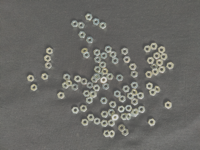nut: (167, 62, 175, 70), (165, 101, 173, 109), (148, 119, 156, 127), (158, 46, 166, 54), (144, 45, 152, 53), (137, 92, 145, 100), (138, 106, 146, 114), (118, 125, 126, 133), (109, 101, 117, 109), (108, 109, 116, 117), (100, 97, 108, 105), (93, 73, 101, 81), (80, 105, 88, 113), (74, 75, 82, 83), (57, 92, 65, 100), (46, 47, 54, 55), (161, 53, 168, 61), (157, 59, 164, 67), (159, 66, 166, 74), (154, 52, 161, 60), (147, 57, 155, 64), (147, 82, 154, 90), (121, 48, 129, 55), (131, 71, 139, 78), (131, 82, 139, 89), (132, 109, 140, 116), (132, 98, 139, 106), (131, 89, 138, 97), (122, 129, 129, 137), (119, 95, 126, 103), (116, 75, 124, 82), (112, 57, 119, 65), (108, 119, 115, 127), (109, 130, 116, 138), (101, 120, 108, 128), (101, 111, 109, 118), (87, 114, 95, 121), (82, 119, 89, 127), (103, 83, 110, 91), (101, 52, 108, 60), (93, 18, 100, 26), (86, 13, 93, 21), (86, 37, 94, 44), (100, 61, 107, 69), (101, 68, 109, 75), (94, 66, 102, 73), (89, 91, 97, 98), (65, 80, 73, 87), (63, 74, 71, 81), (44, 55, 52, 62), (45, 62, 53, 69), (41, 73, 49, 80), (27, 75, 35, 82), (31, 84, 38, 92), (151, 43, 158, 50), (151, 64, 158, 71), (146, 71, 153, 78), (154, 86, 161, 93), (150, 89, 157, 96), (124, 56, 131, 63), (131, 111, 138, 118), (128, 93, 135, 100), (126, 105, 133, 112), (118, 106, 125, 113), (123, 86, 130, 93), (114, 91, 121, 98), (110, 51, 117, 58), (105, 46, 112, 53), (112, 114, 119, 121), (94, 118, 101, 125), (107, 73, 114, 80), (100, 22, 107, 29), (79, 31, 86, 38), (78, 22, 85, 29), (72, 21, 79, 28), (94, 49, 101, 56), (95, 56, 102, 63), (82, 48, 89, 55), (83, 52, 90, 59), (101, 77, 108, 84), (91, 76, 98, 83), (93, 85, 100, 92), (87, 82, 94, 89), (86, 97, 93, 104), (72, 107, 79, 114), (81, 78, 88, 85), (72, 84, 79, 91), (62, 82, 69, 89), (129, 64, 137, 70), (126, 113, 132, 121), (121, 113, 127, 121), (104, 130, 110, 138), (153, 69, 159, 76), (97, 73, 104, 79), (83, 91, 90, 97), (92, 92, 97, 99)
